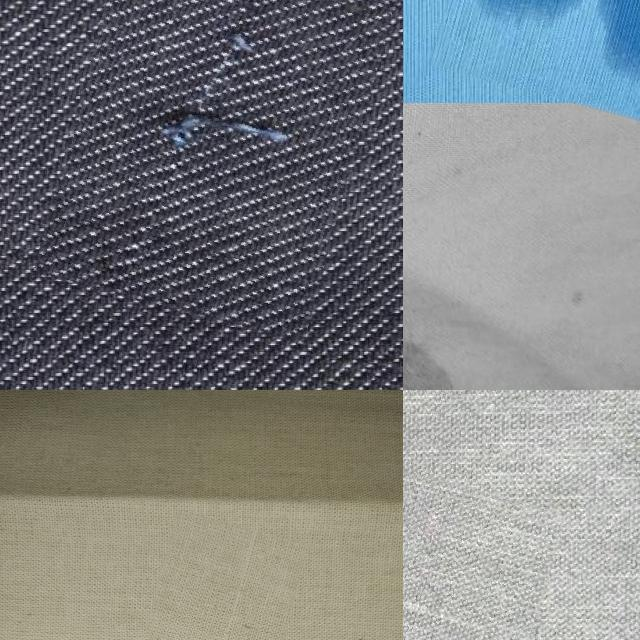Thread_other: (445, 0, 640, 117)
stains: (55, 0, 381, 330), (403, 412, 555, 640), (85, 514, 279, 640)
